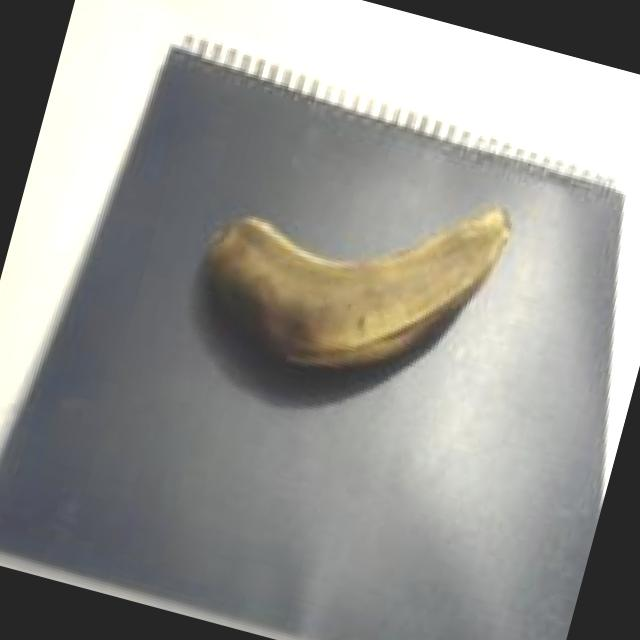Rotten_Banana: (183, 153, 529, 439)
